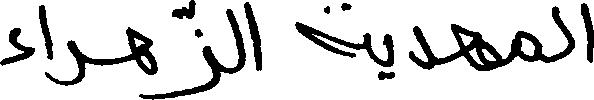X: (297, 0, 370, 62), (175, 0, 219, 99), (451, 19, 500, 75), (126, 22, 157, 99), (0, 23, 33, 70), (227, 0, 244, 78), (553, 1, 573, 66), (409, 21, 432, 74), (62, 35, 82, 90), (246, 0, 260, 75), (515, 26, 540, 66), (580, 0, 593, 67), (40, 0, 50, 84), (385, 29, 391, 83)
